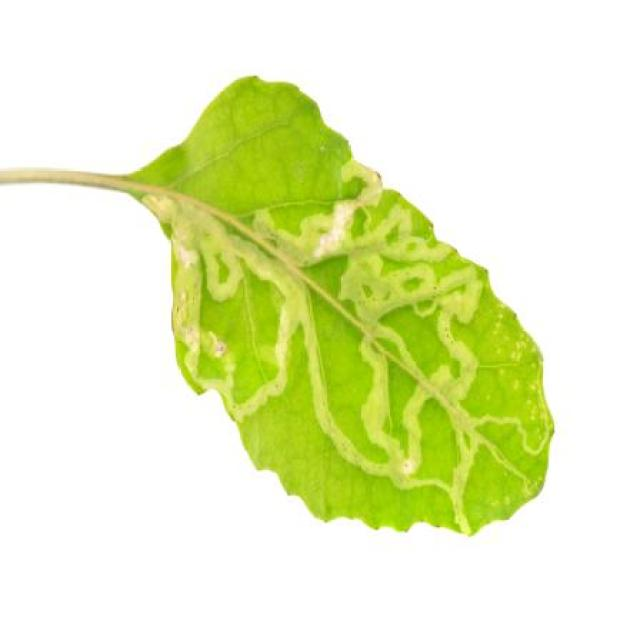Leaf Miner: (153, 69, 558, 537)
